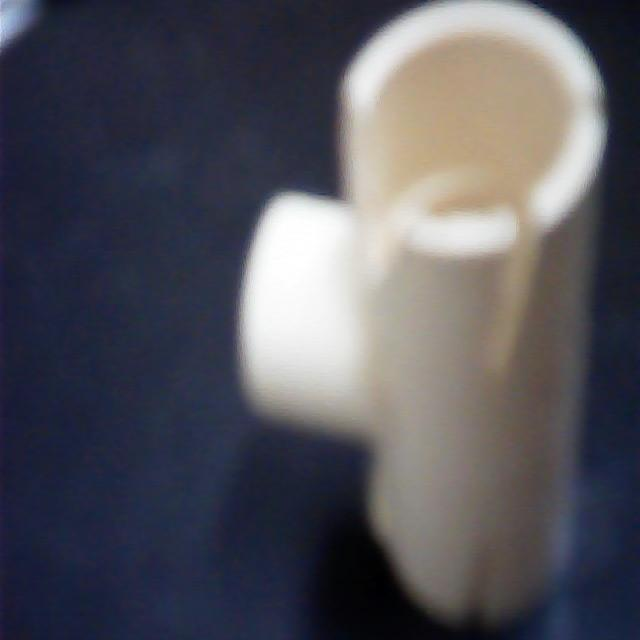T Joint: (233, 0, 608, 638)
